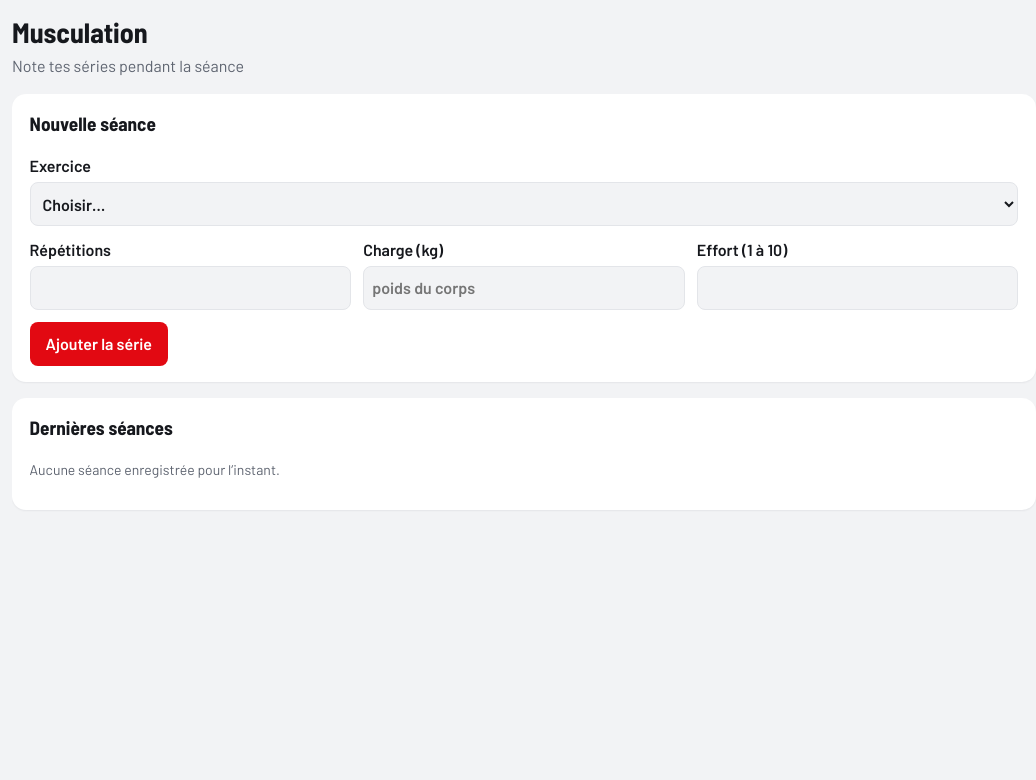
StrengthPage › logs sets with the last load pre-filled, repeats one and saves the session
The image size is (1036, 780).
Select "Squat" in the dropdown labelled "Exercice" at [524, 204], box [30,182,1018,226]
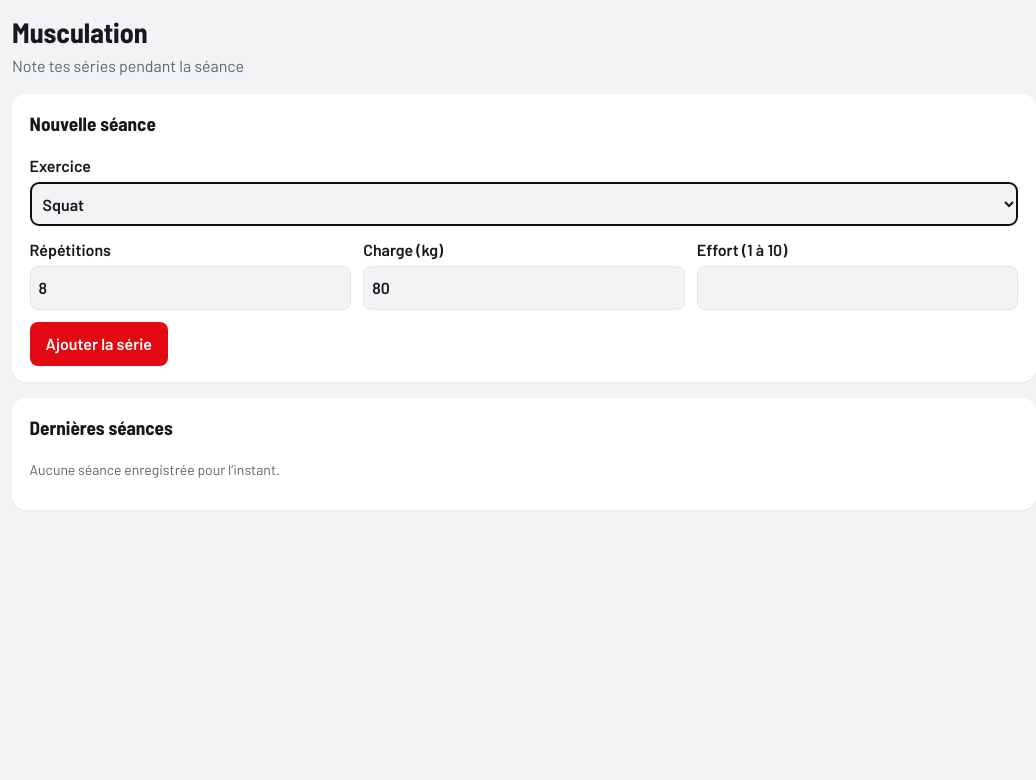
Now the field labelled "Charge (kg)" holds "80", box [363,266,685,310]
Click the button "Ajouter la série".
click(99, 344)  # box [30,322,168,366]
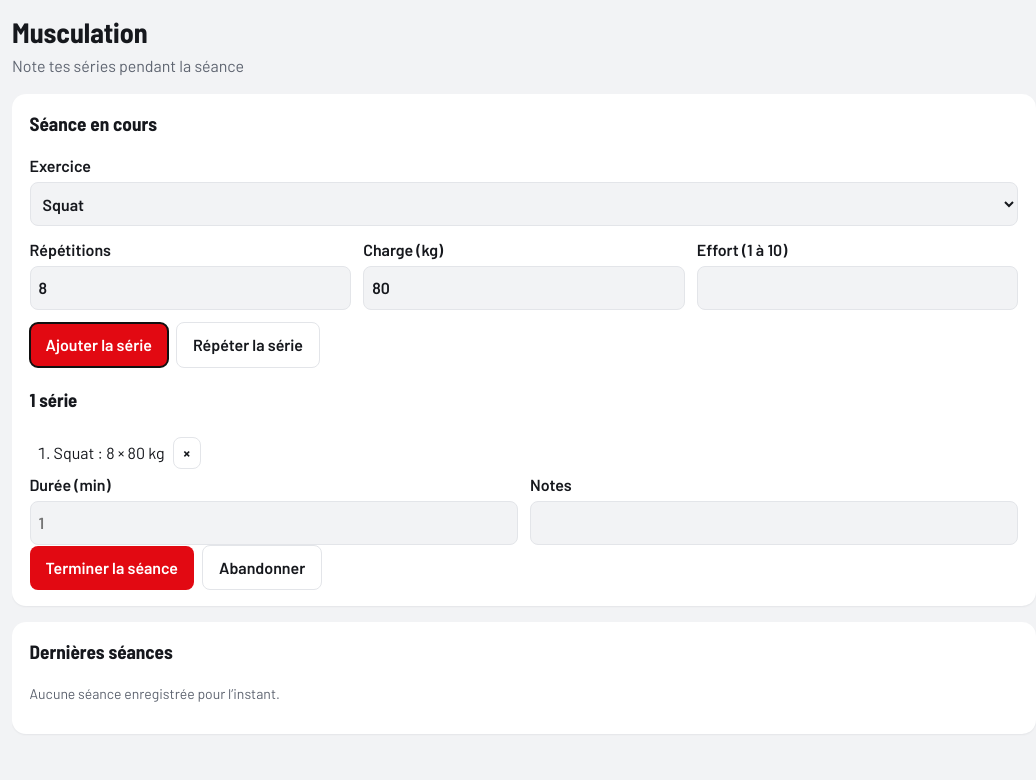
Click the button "Répéter la série".
click(248, 345)  # box [176,322,320,368]
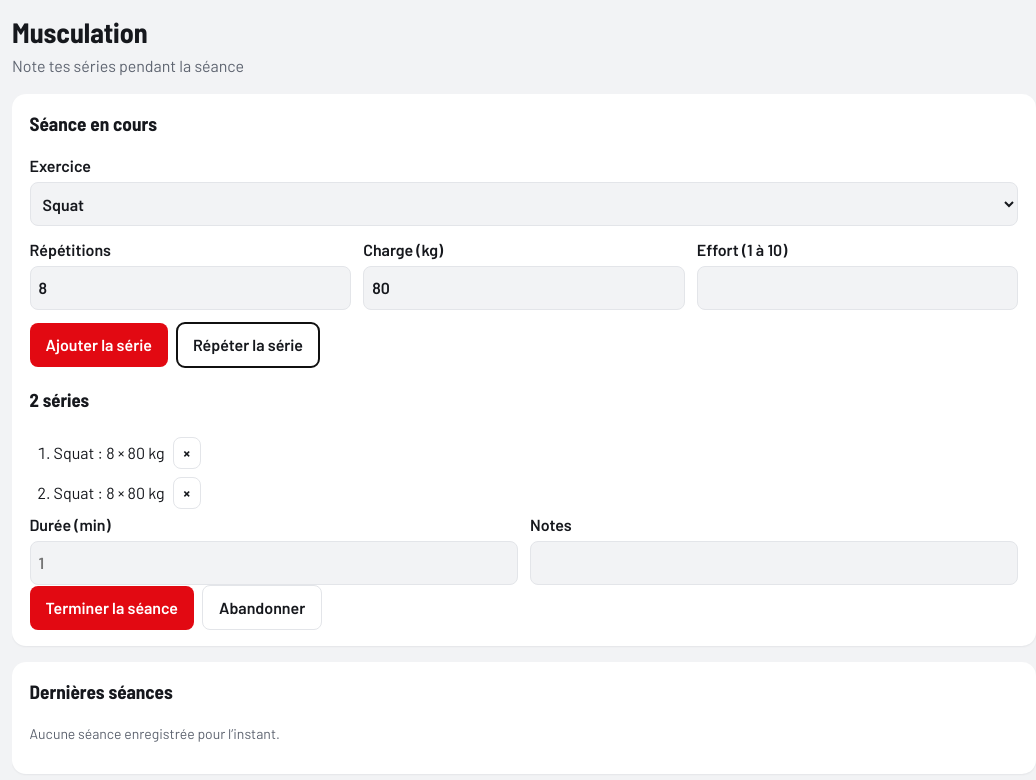
Now the heading "2 séries" is shown, box [30,388,89,411]
Type "55" into the field labelled "Durée (min)".
click(274, 563); type("55")  # box [30,541,518,585]
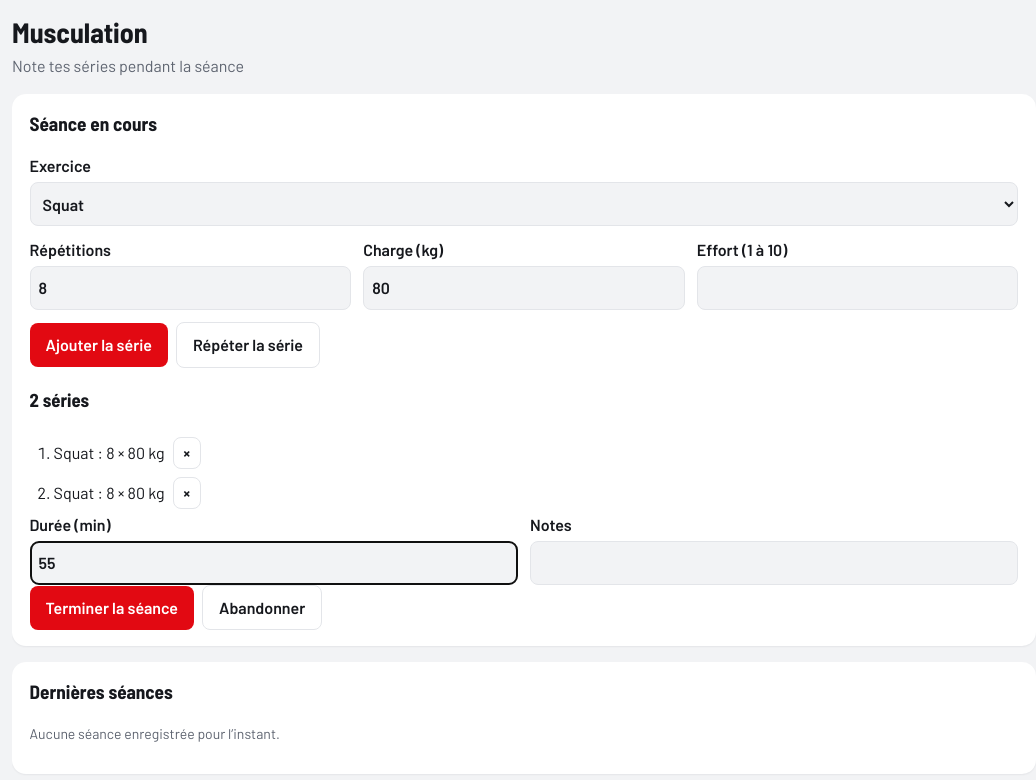
Click the button "Terminer la séance".
click(112, 608)  # box [30,586,194,630]
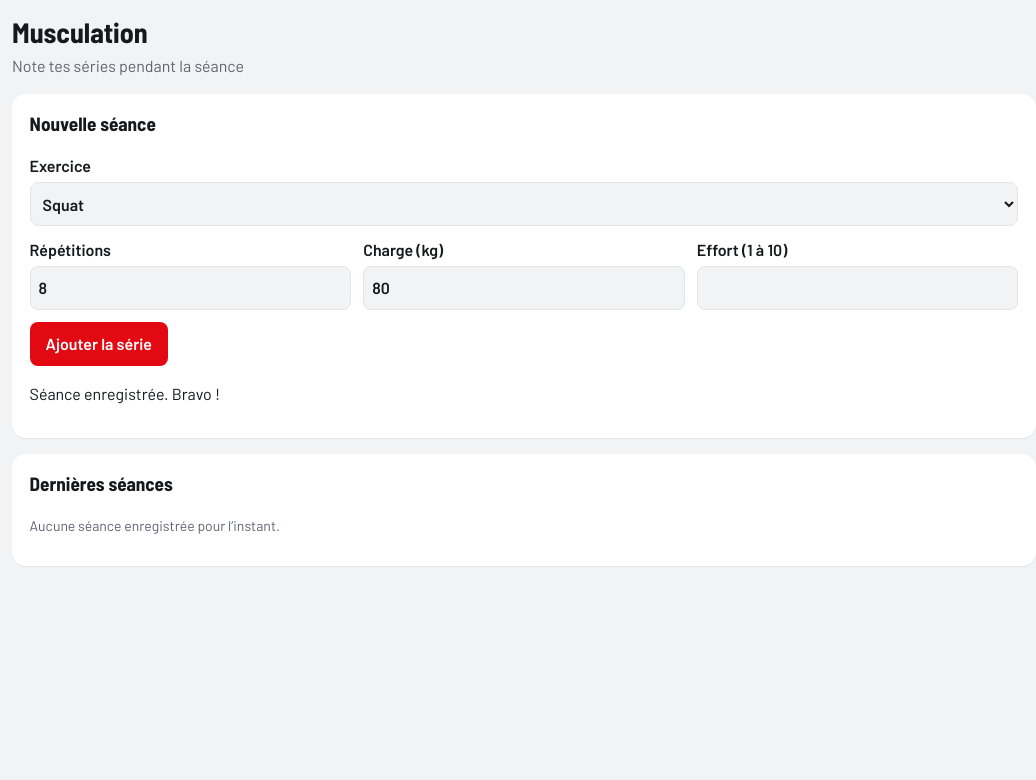
Now the text "Séance enregistrée. Bravo !" is shown, box [30,384,220,403]
